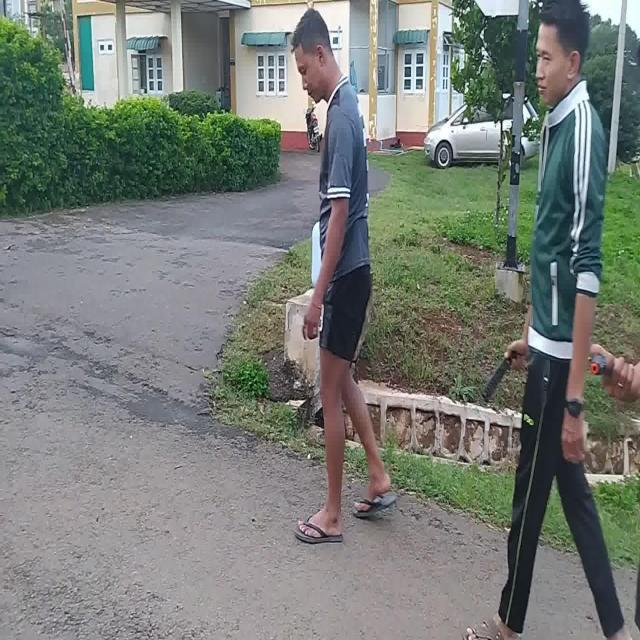gun: (590, 354, 607, 376)
